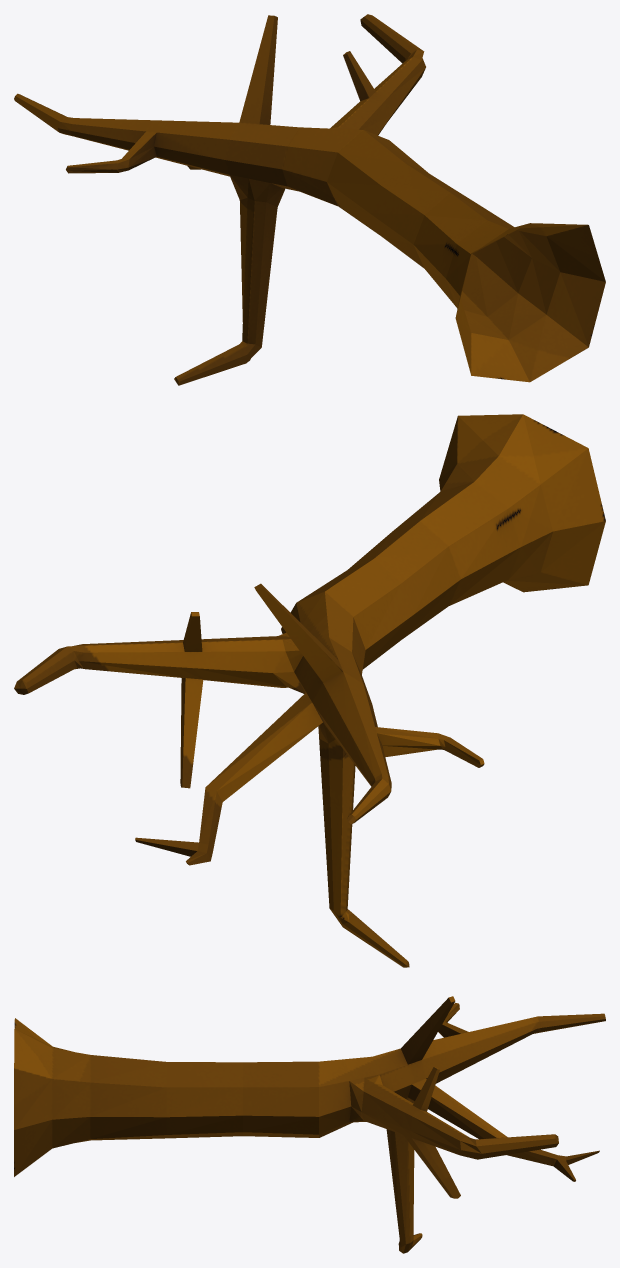
File: tree-destroyed.obj
3 renders of one model, top to bottom at view 1: azimuth 30°, elevation 25°; view 2: azimuth 150°, elevation 25°; view 3: azimuth 270°, elevation 25°, orthographic. The views are drawn at different scales.
Parts seen in each view (by area): view 1: Cube.006; view 2: Cube.006; view 3: Cube.006.
Boxes of the visible parts, x1,y1,x2,y2 form: Cube.006: (14, 14, 605, 385); Cube.006: (14, 414, 605, 967); Cube.006: (14, 996, 605, 1253).
Bounding box in the file's own units: 7.77 × 6.6 × 12.14.
Materials: 1 (1 with a texture image).
